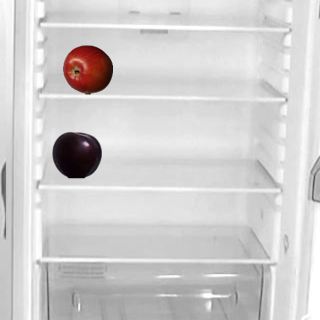Apple Braeburn: (62, 44, 112, 94)
Cherry Wax Black: (51, 129, 101, 179)
